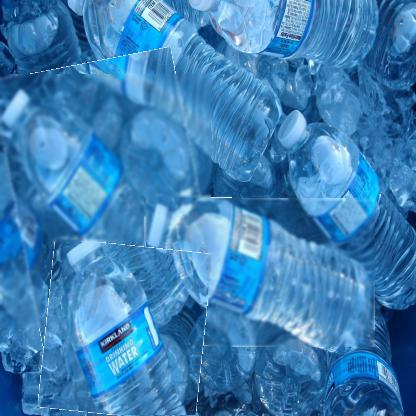plastic-bottles: (1, 76, 213, 330), (145, 199, 377, 349), (43, 243, 210, 416)
